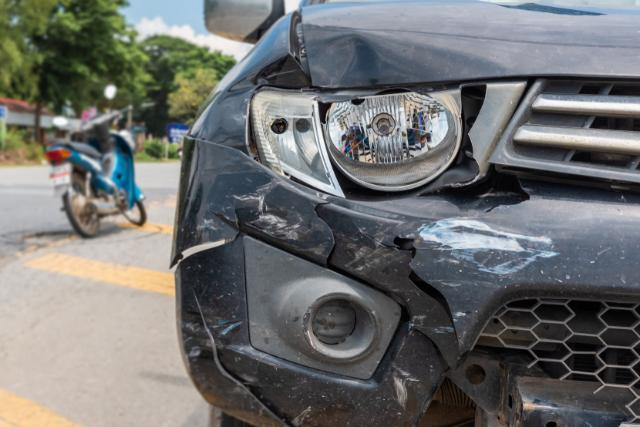Bonnet: (304, 8, 451, 82)
Bumper: (157, 156, 640, 427)
Fender: (202, 49, 268, 140)
Light: (264, 91, 496, 188)
